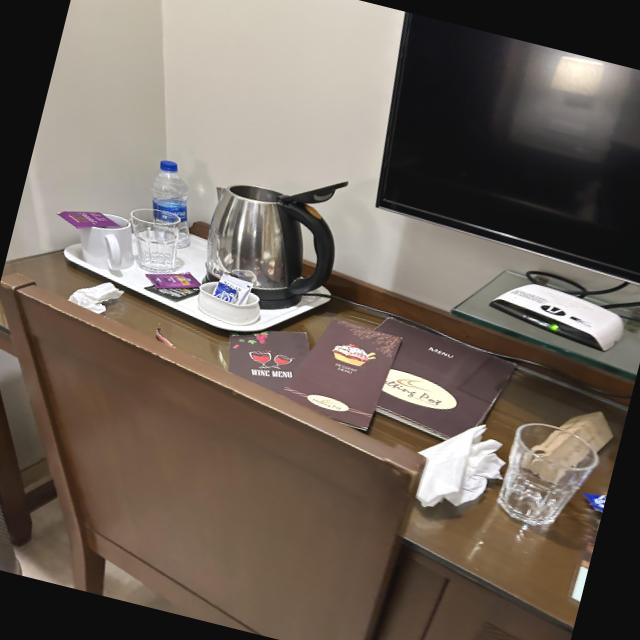mess: (0, 86, 640, 577)
